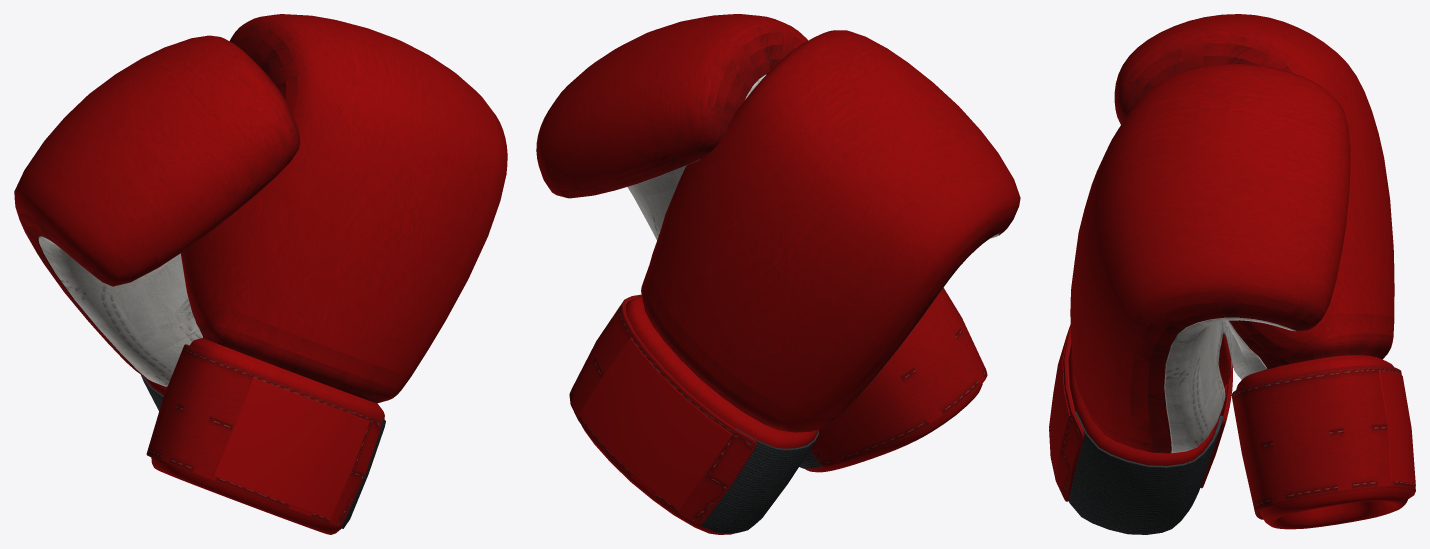
The model's file is boxing_gloves.c4d.fbx.
The picture shows the model from 3 angles, left to right: view 1: azimuth 30°, elevation 25°; view 2: azimuth 150°, elevation 25°; view 3: azimuth 270°, elevation 25°; orthographic projection. The views are drawn at different scales.
Visible parts, largest first — view 1: BoxDX2, BoxDX; view 2: BoxDX, BoxDX2; view 3: BoxDX2, BoxDX.
Part boxes in pixels (x1=…): BoxDX2: x1=146, y1=14, x2=507, y2=534; BoxDX: x1=14, y1=35, x2=300, y2=411; BoxDX: x1=569, y1=30, x2=1020, y2=534; BoxDX2: x1=536, y1=14, x2=987, y2=472; BoxDX2: x1=1049, y1=64, x2=1350, y2=534; BoxDX: x1=1114, y1=14, x2=1415, y2=529.
Size of the model in its own units: 213 by 213 by 147.
1 material, 1 textured.
